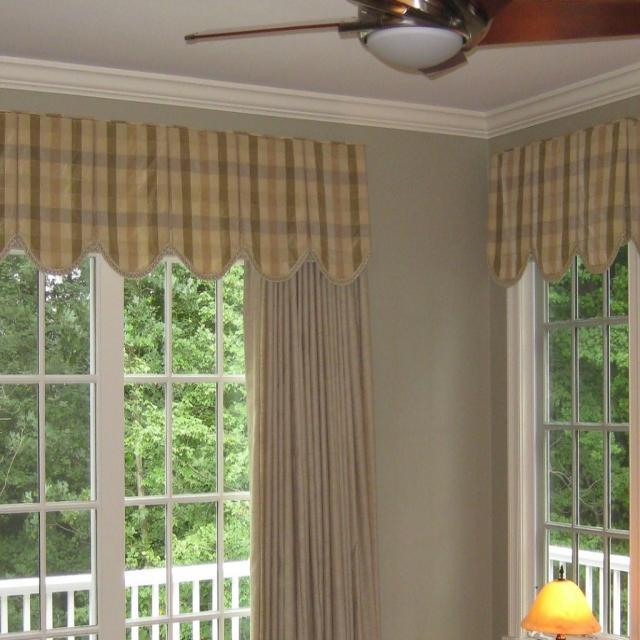fan_off: (181, 0, 640, 72)
